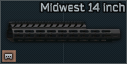MPX Midwest Industries 14 inch M-LOK handguard: (0, 0, 127, 64)
